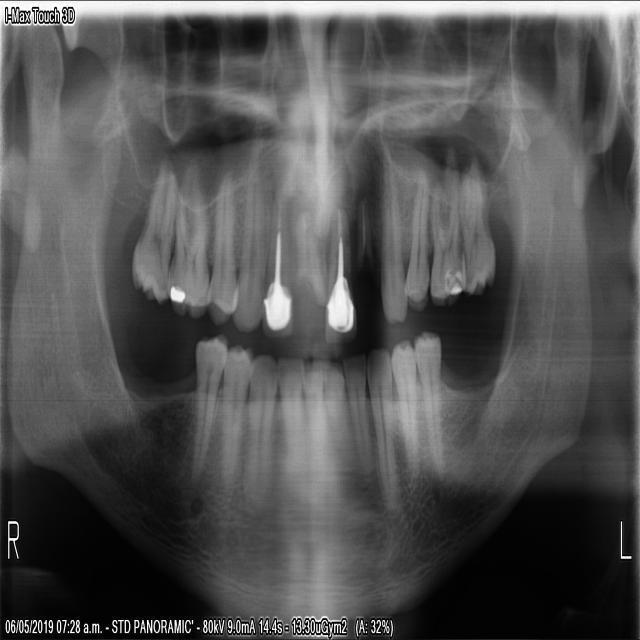LCD: (368, 341, 399, 512)
LCU: (377, 152, 409, 329)
LID: (322, 351, 357, 487), (344, 347, 373, 483)
LIU: (322, 166, 360, 351), (353, 158, 373, 280)
LMU: (429, 152, 469, 305), (460, 147, 499, 296)
LPMD: (416, 324, 448, 483), (391, 333, 421, 477)
LPMU: (403, 174, 431, 312)
RCD: (242, 347, 278, 512)
RCU: (233, 149, 266, 333)
RID: (304, 351, 336, 507), (278, 354, 310, 494)
RIU: (290, 152, 326, 340), (261, 147, 292, 343)
RMU: (130, 154, 178, 307), (167, 162, 209, 321)
RPMD: (191, 333, 228, 474), (217, 341, 249, 485)
RPMU: (208, 168, 236, 327)
